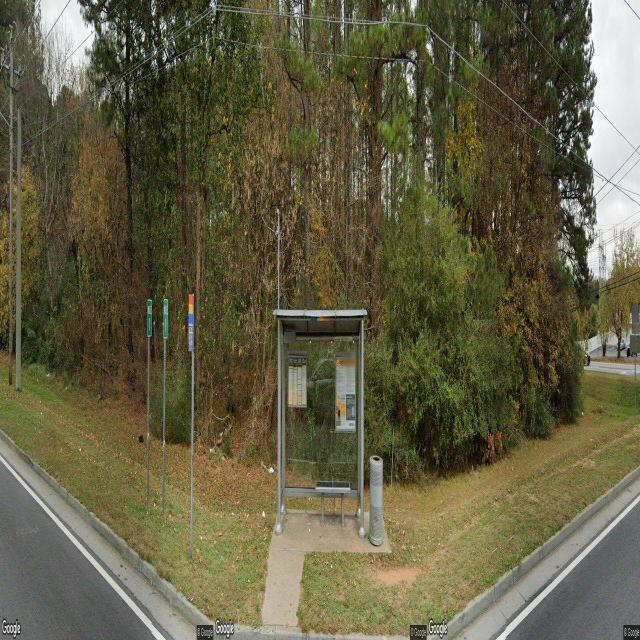seating: (314, 476, 351, 525)
shelter: (272, 308, 369, 539)
trash_can: (368, 453, 384, 545)
